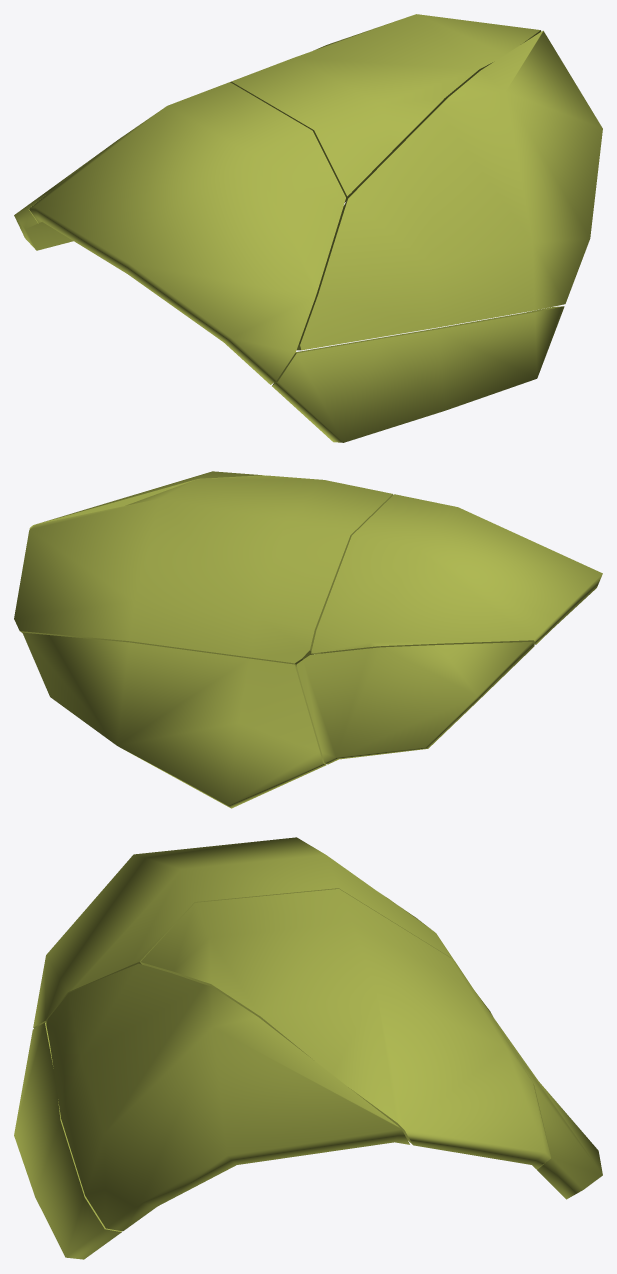
Rendered from Plaque_05.fbx.
3 renders of one model, top to bottom at view 1: azimuth 30°, elevation 25°; view 2: azimuth 150°, elevation 25°; view 3: azimuth 270°, elevation 25°, orthographic. The views are drawn at different scales.
Visible parts, largest first — view 1: tooth_d.041_cell.002, tooth_d.041_cell.003, tooth_d.041_cell.001, tooth_d.041_cell, tooth_d.041_cell.004; view 2: tooth_d.041_cell.001, tooth_d.041_cell.005, tooth_d.041_cell.003, tooth_d.041_cell.004, tooth_d.041_cell.002; view 3: tooth_d.041_cell.001, tooth_d.041_cell.002, tooth_d.041_cell.003, tooth_d.041_cell, tooth_d.041_cell.005.
Part boxes in pixels (x1,y1,x2,y2): tooth_d.041_cell.002: (297,30,602,350); tooth_d.041_cell.003: (29,82,345,384); tooth_d.041_cell.001: (230,14,541,202); tooth_d.041_cell: (272,306,564,442); tooth_d.041_cell.004: (14,152,100,250); tooth_d.041_cell.001: (14,475,393,666); tooth_d.041_cell.005: (22,632,326,808); tooth_d.041_cell.003: (311,494,602,654); tooth_d.041_cell.004: (296,642,534,764); tooth_d.041_cell.002: (29,471,264,528); tooth_d.041_cell.001: (141,889,550,1169); tooth_d.041_cell.002: (46,963,409,1231); tooth_d.041_cell.003: (33,837,466,1028); tooth_d.041_cell: (14,1022,121,1259); tooth_d.041_cell.005: (480,999,602,1199).
Size of the model in its own units: 70.63 by 31.37 by 59.21.
